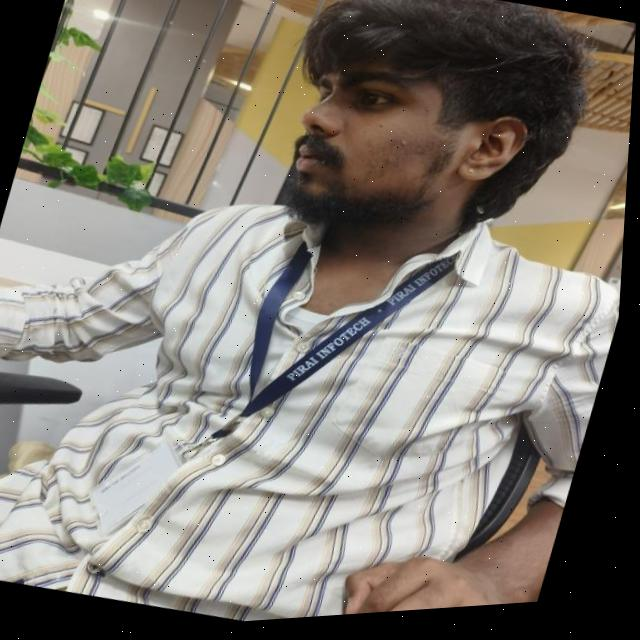id_card: (81, 191, 463, 604)
